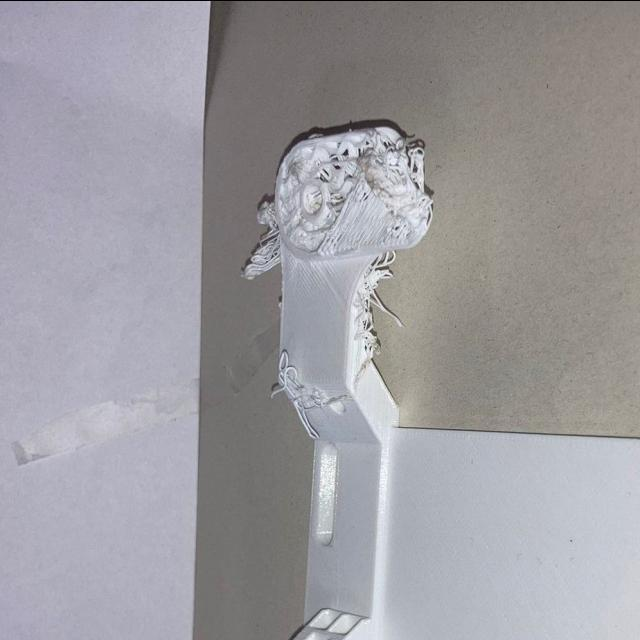Spaghetti: (386, 143, 434, 217), (245, 230, 284, 276), (355, 298, 383, 358), (282, 362, 316, 404), (365, 260, 391, 298)
